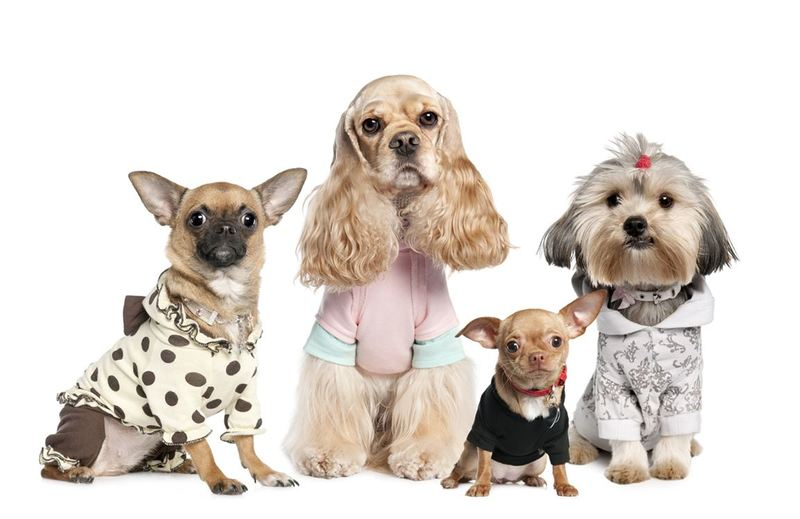dog: (303, 72, 524, 285), (537, 119, 743, 299), (129, 144, 312, 339), (457, 292, 659, 404)
